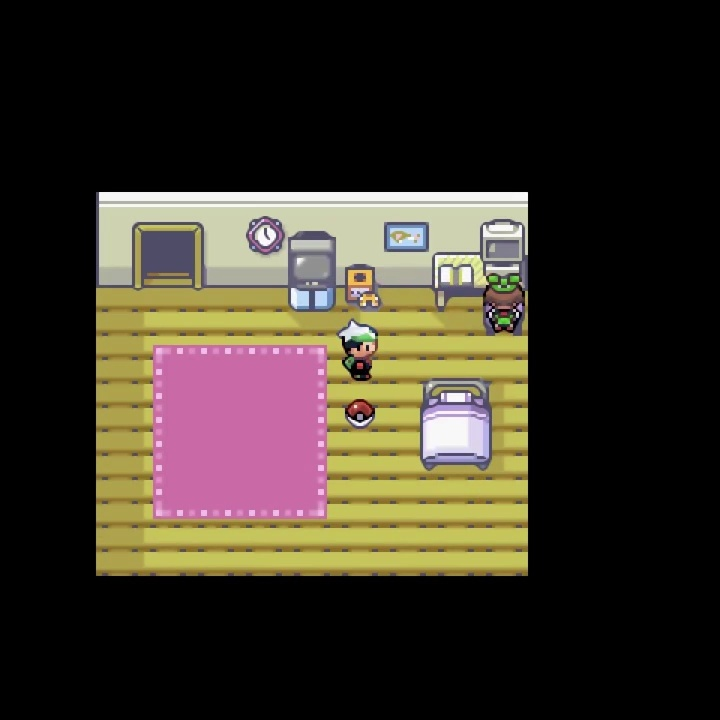agent: (332, 317, 383, 384)
npc: (479, 272, 530, 338)
